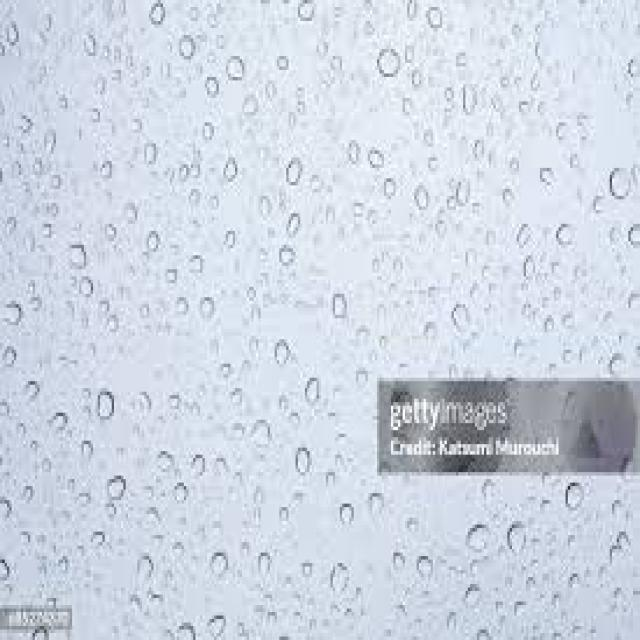raindrop: (313, 542, 367, 601), (82, 382, 125, 445), (458, 508, 496, 572), (556, 466, 594, 528), (281, 152, 313, 214), (373, 36, 408, 88), (504, 508, 532, 572), (205, 536, 239, 588), (447, 292, 477, 346), (64, 222, 90, 283), (172, 26, 204, 74), (290, 434, 320, 482), (105, 476, 136, 519), (607, 164, 634, 212), (264, 330, 292, 376), (284, 203, 310, 251), (304, 372, 330, 418), (202, 608, 235, 640), (223, 41, 246, 84), (276, 235, 297, 280), (295, 0, 318, 32)
